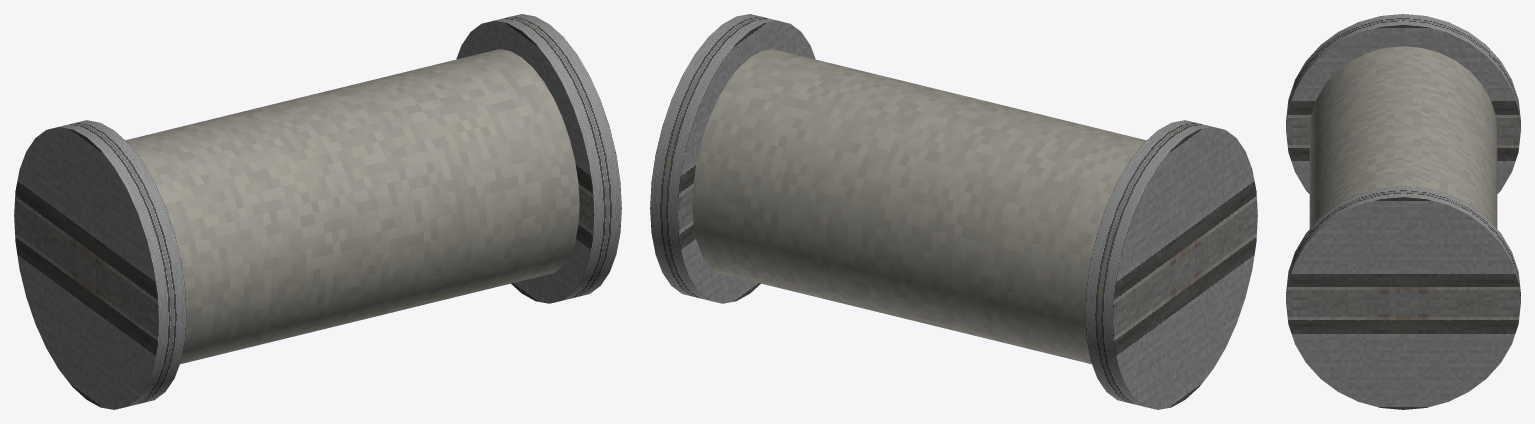
The model's file is sleeve.glb.
The picture shows the model from 3 angles, left to right: view 1: azimuth 30°, elevation 25°; view 2: azimuth 150°, elevation 25°; view 3: azimuth 270°, elevation 25°; orthographic projection. The views are drawn at different scales.
Parts seen in each view (by area): view 1: barrel, flange (×2); view 2: barrel, flange (×2); view 3: flange (×2), barrel.
Boxes of the visible parts, left/top/right/bottom form: barrel: left=125, top=49, right=579, bottom=364; flange (×2): left=14, top=14, right=621, bottom=409; barrel: left=692, top=49, right=1146, bottom=364; flange (×2): left=650, top=14, right=1257, bottom=409; flange (×2): left=1286, top=14, right=1520, bottom=409; barrel: left=1309, top=46, right=1497, bottom=228.
Size of the model in its own units: 0.24 by 0.13 by 0.13.
Materials: 2 (2 with a texture image).
